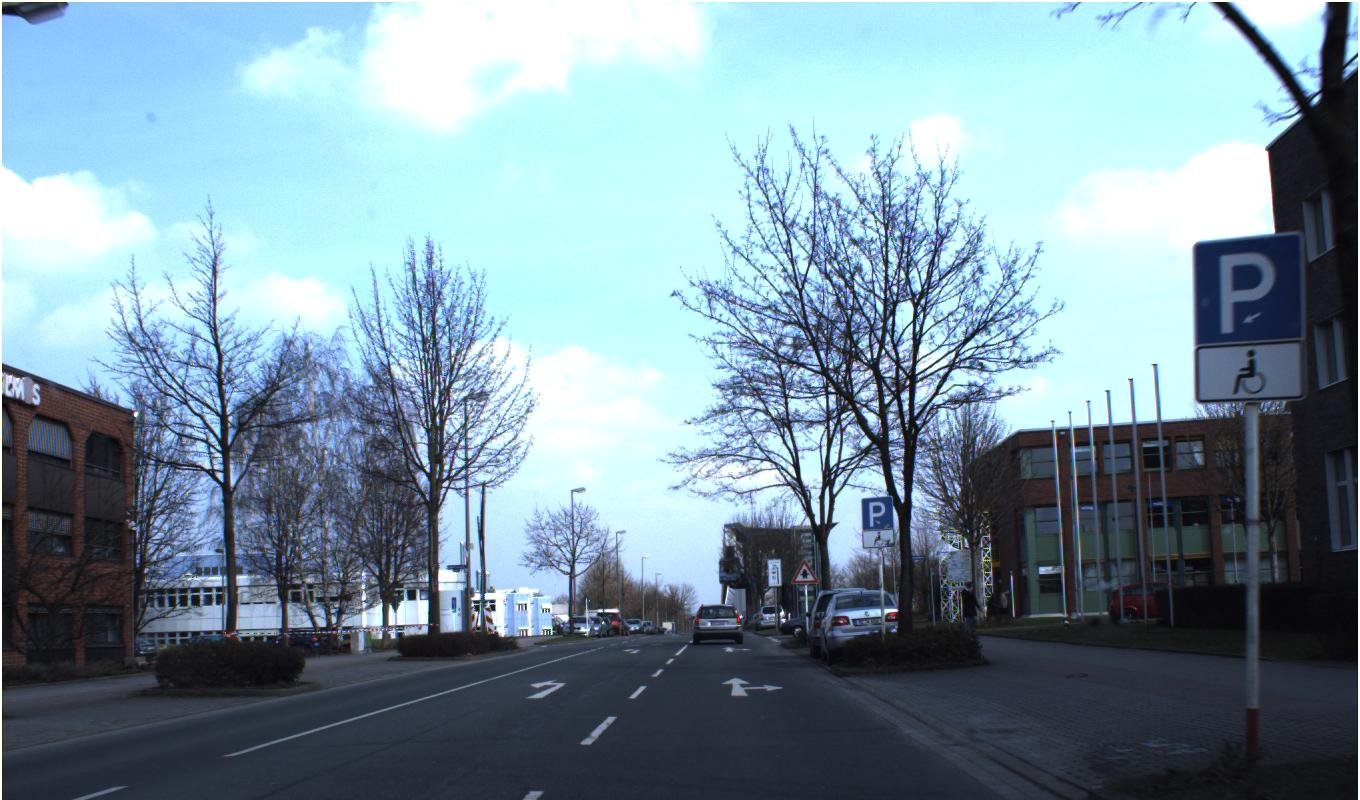danger: (790, 558, 819, 585)
